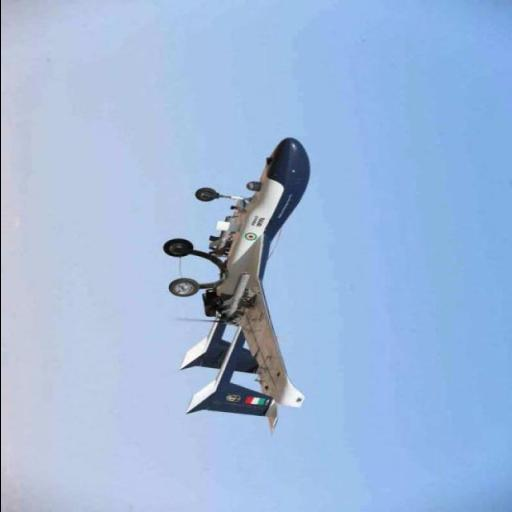uav: (169, 136, 315, 434)
